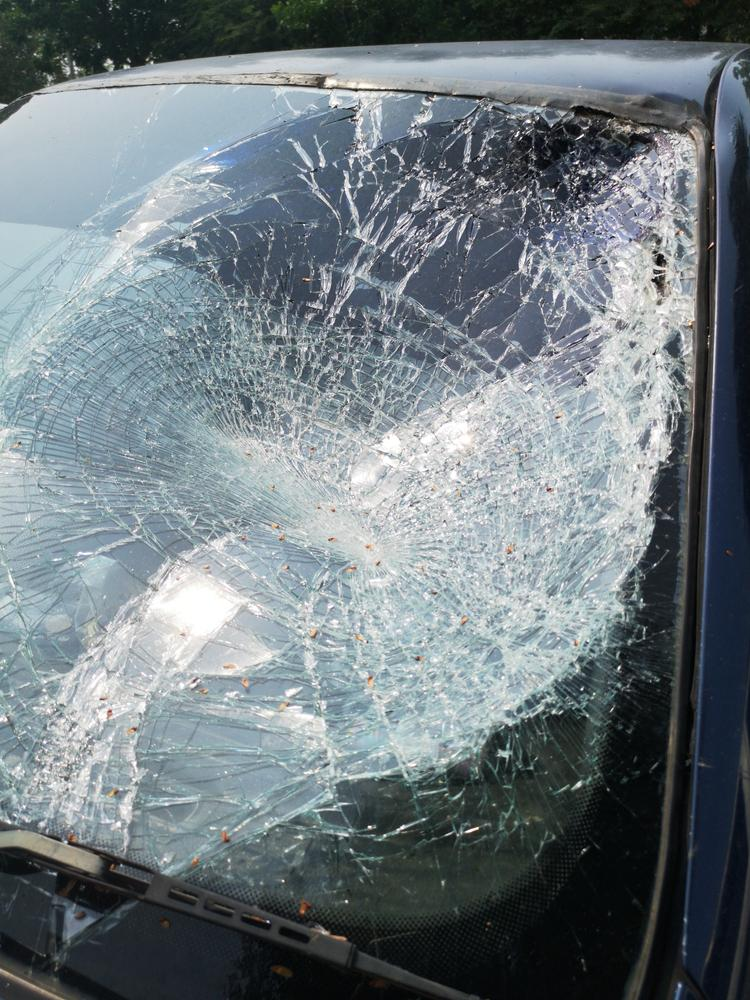glass shatter: (0, 83, 701, 1000)
